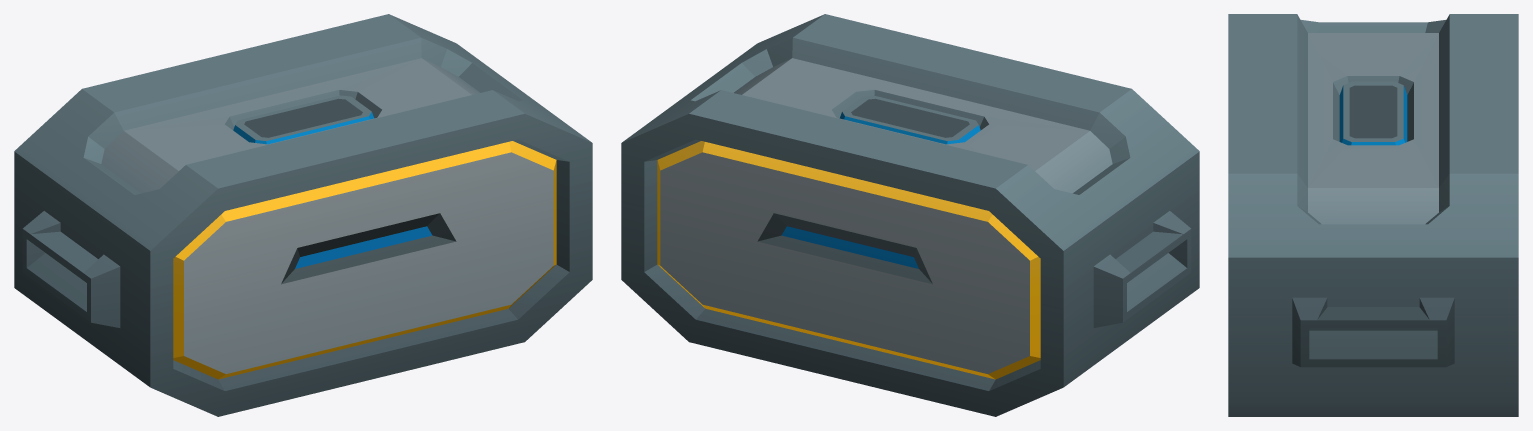
Rendered from Battery_001.fbx.
The picture shows the model from 3 angles, left to right: view 1: azimuth 30°, elevation 25°; view 2: azimuth 150°, elevation 25°; view 3: azimuth 270°, elevation 25°; orthographic projection. The views are drawn at different scales.
Visible parts, largest first — view 1: Battery_001; view 2: Battery_001; view 3: Battery_001.
Part boxes in pixels (<box>): Battery_001: <box>14,14,592,416</box>; Battery_001: <box>621,14,1199,416</box>; Battery_001: <box>1228,14,1518,416</box>.
Size of the model in its own units: 100 by 47.87 by 44.28.
